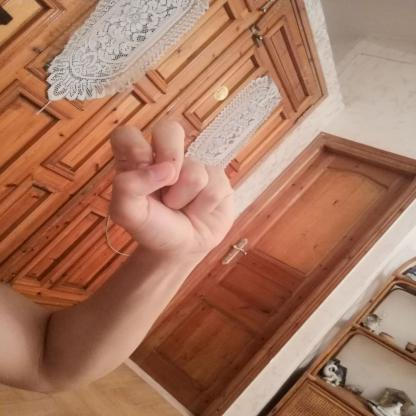QAAF: (92, 112, 250, 277)
